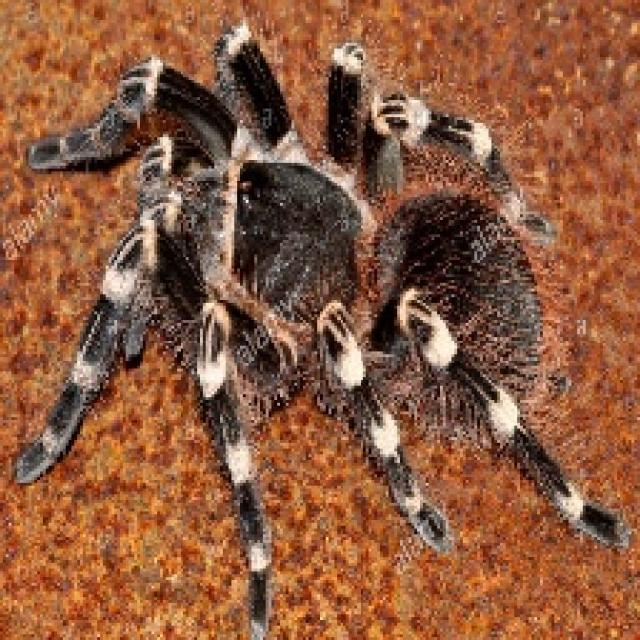Venomous spider: (37, 5, 640, 610)
